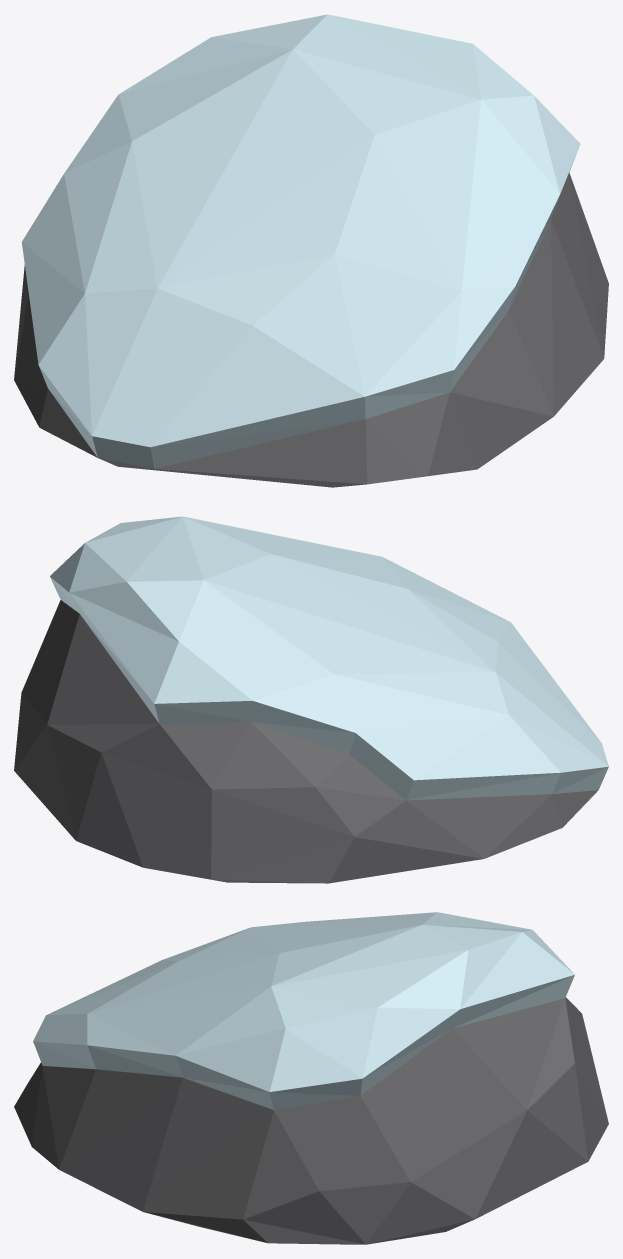
Rendered from SM_Env_Rock_07_Snow.fbx.
3 views of the same model, one above another, from view 1: azimuth 30°, elevation 25°; view 2: azimuth 150°, elevation 25°; view 3: azimuth 270°, elevation 25° (orthographic). The views are drawn at different scales.
Visible parts, largest first — view 1: SM_Env_Rock_07_Snow; view 2: SM_Env_Rock_07_Snow; view 3: SM_Env_Rock_07_Snow.
Part boxes in pixels (<box>): SM_Env_Rock_07_Snow: <box>14,14,608,487</box>; SM_Env_Rock_07_Snow: <box>14,516,608,883</box>; SM_Env_Rock_07_Snow: <box>14,912,608,1244</box>.
Size of the model in its own units: 144 by 70.87 by 147.
